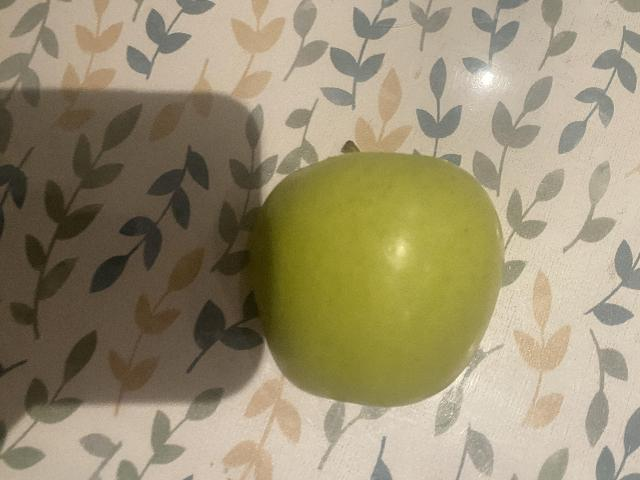Organik: (260, 149, 508, 402)
